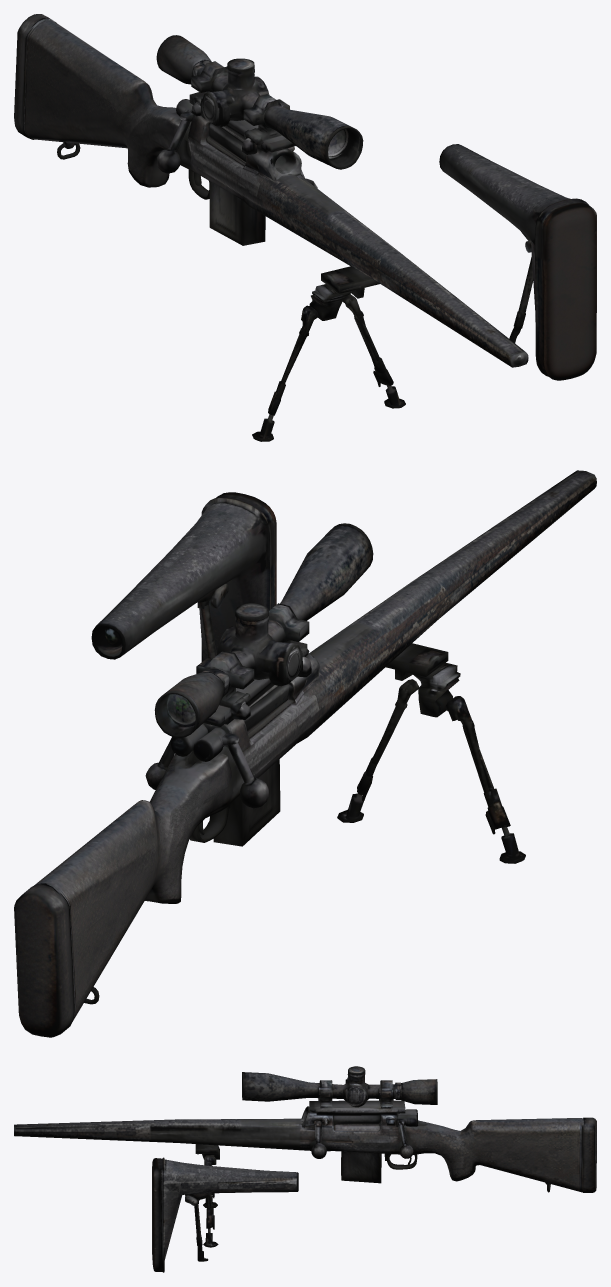
Rendered from 狙击枪.glb.
3 renders of one model, top to bottom at view 1: azimuth 30°, elevation 25°; view 2: azimuth 150°, elevation 25°; view 3: azimuth 270°, elevation 25°, orthographic. The views are drawn at different scales.
Parts seen in each view (by area): view 1: tripo_node_16fcff99-db78-4334-8f5f-f84cd00a0045; view 2: tripo_node_16fcff99-db78-4334-8f5f-f84cd00a0045; view 3: tripo_node_16fcff99-db78-4334-8f5f-f84cd00a0045.
Part boxes in pixels (box(x1,y1,x2,y2)): tripo_node_16fcff99-db78-4334-8f5f-f84cd00a0045: box(14, 14, 596, 441); tripo_node_16fcff99-db78-4334-8f5f-f84cd00a0045: box(14, 470, 596, 1037); tripo_node_16fcff99-db78-4334-8f5f-f84cd00a0045: box(14, 1066, 596, 1272).
Size of the model in its own units: 0.3696 by 0.313 by 0.9995.
Materials: 1 (1 with a texture image).
